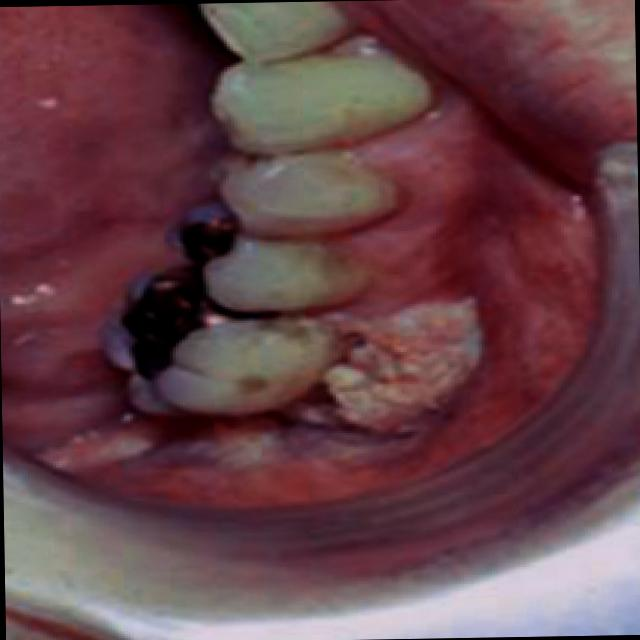Cancer: (2, 240, 178, 490), (295, 296, 475, 463)
